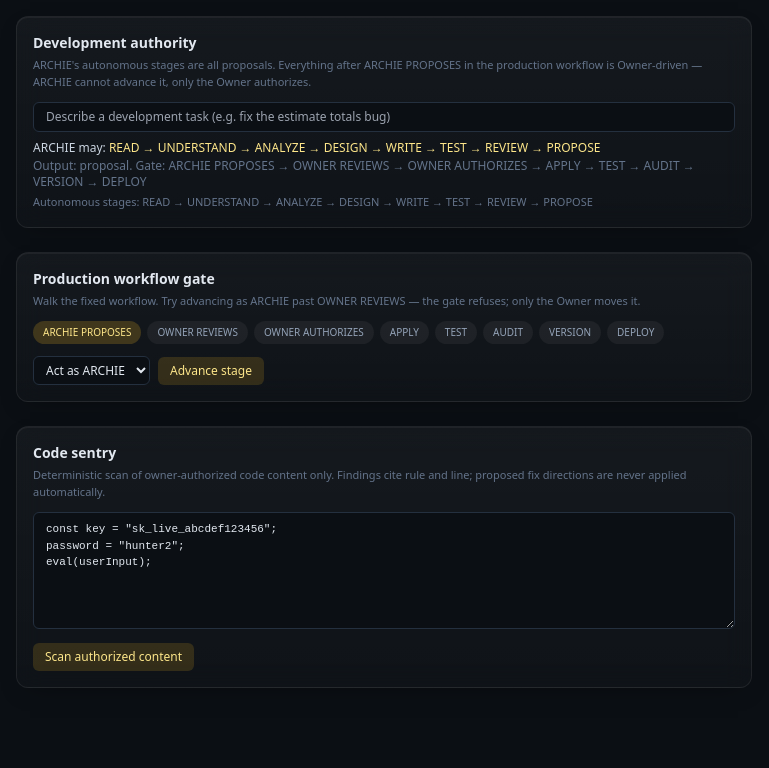
Test: DevGovernance › the code sentry scans authorized content with cited findings
Click the button "Scan authorized content" at [114, 657], box [33,643,194,671]
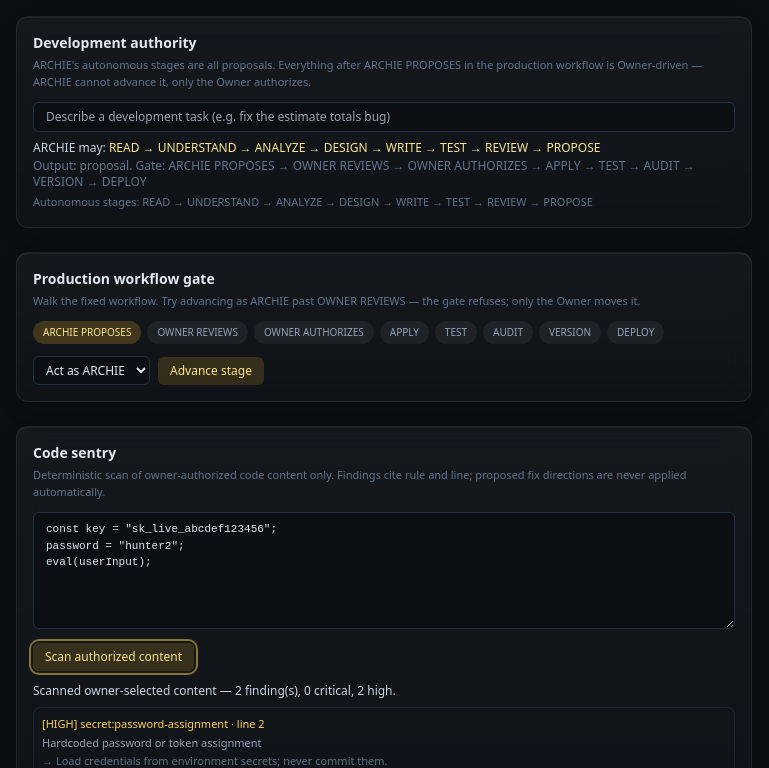
Check: the text "→ " is shown, box [109,139,600,156]
Check: the text "finding(s)" is shown, box [33,682,396,699]
